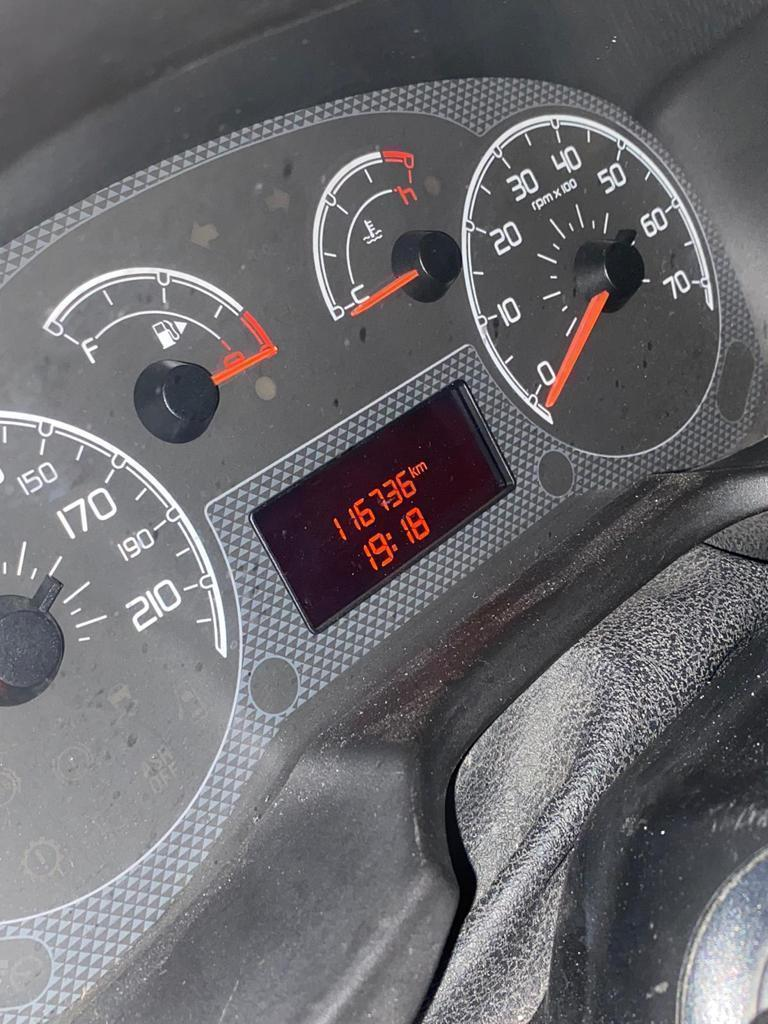1: (363, 544, 378, 571), (400, 518, 415, 544), (332, 516, 346, 541), (347, 507, 361, 531)
3: (381, 478, 403, 508)
6: (352, 497, 375, 528), (395, 470, 417, 498)
7: (368, 487, 389, 511)
8: (404, 507, 430, 540)
9: (367, 532, 393, 567)
X: (385, 532, 398, 552), (416, 461, 427, 474), (407, 466, 418, 478)
odometer: (246, 377, 519, 636)
